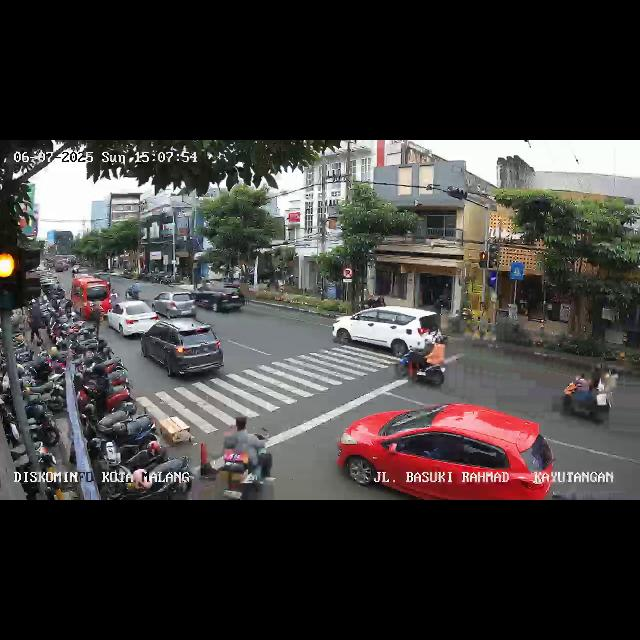car: (339, 402, 555, 500), (334, 304, 446, 364), (140, 321, 226, 382), (102, 298, 158, 338), (72, 276, 112, 320), (194, 280, 244, 314), (154, 289, 198, 321)
motorcycle: (216, 415, 274, 497), (558, 367, 614, 425), (401, 328, 449, 390), (124, 282, 146, 300)
